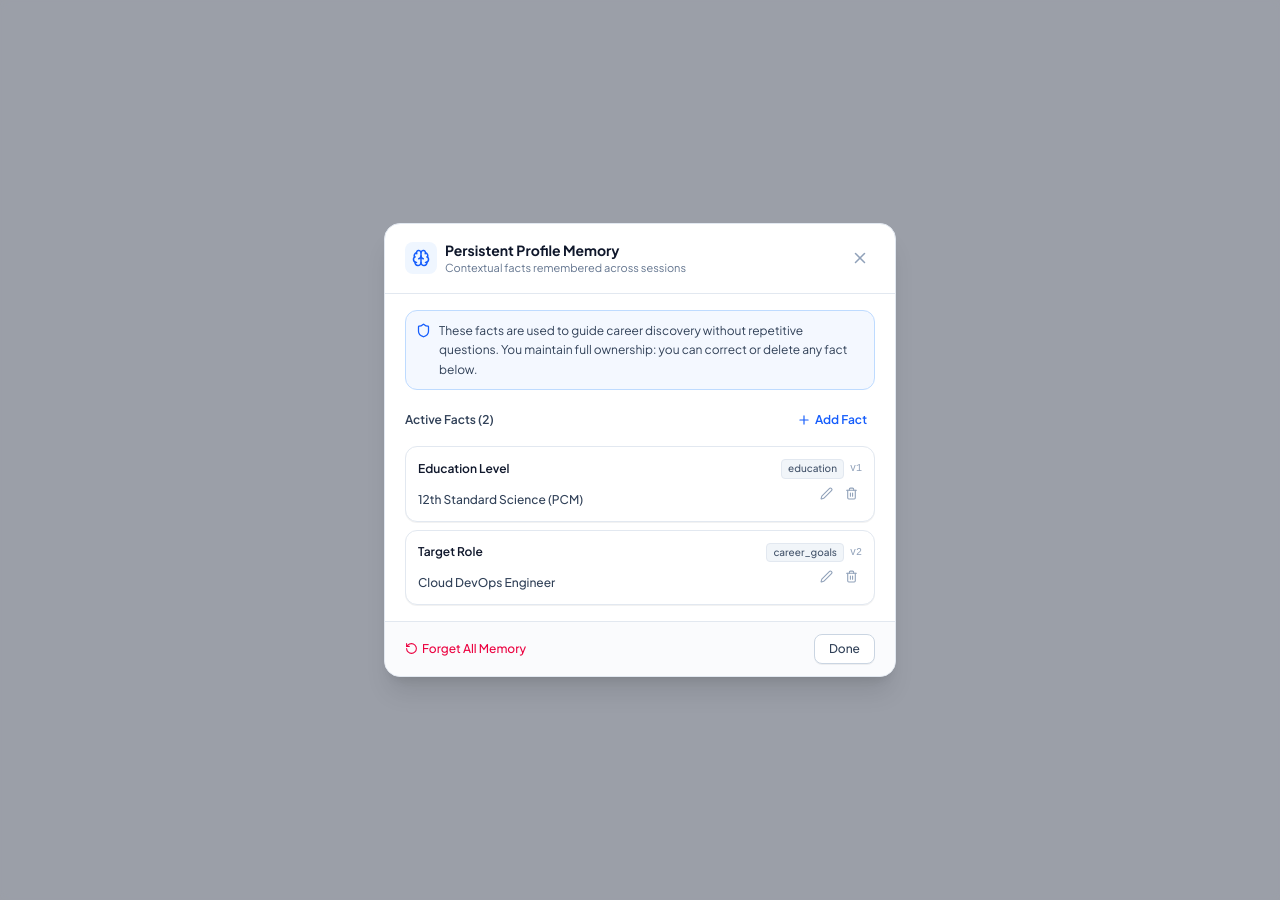
it: MemoryModal Component › supports forget all memories with confirmation
Check: the text "12th Standard Science (PCM)" is shown, box [418, 490, 583, 508]
Click "Forget All Memory"
Click the button "Forget All Memory" at (466, 649), box [405, 641, 526, 657]
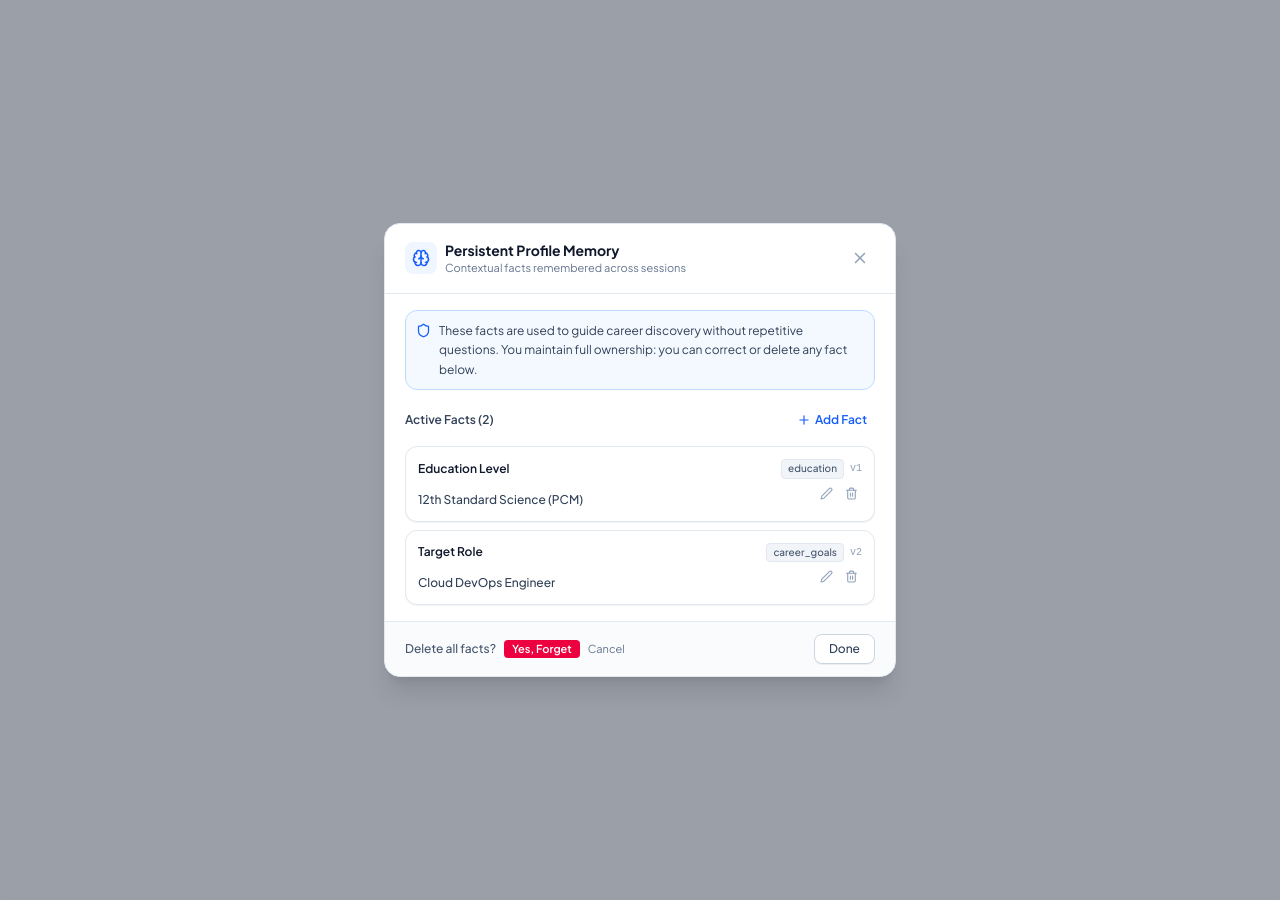
Check: the text "Delete all facts?" is shown, box [405, 641, 496, 657]
Confirm action
Click the button "Yes, Forget" at (542, 649), box [504, 640, 580, 658]
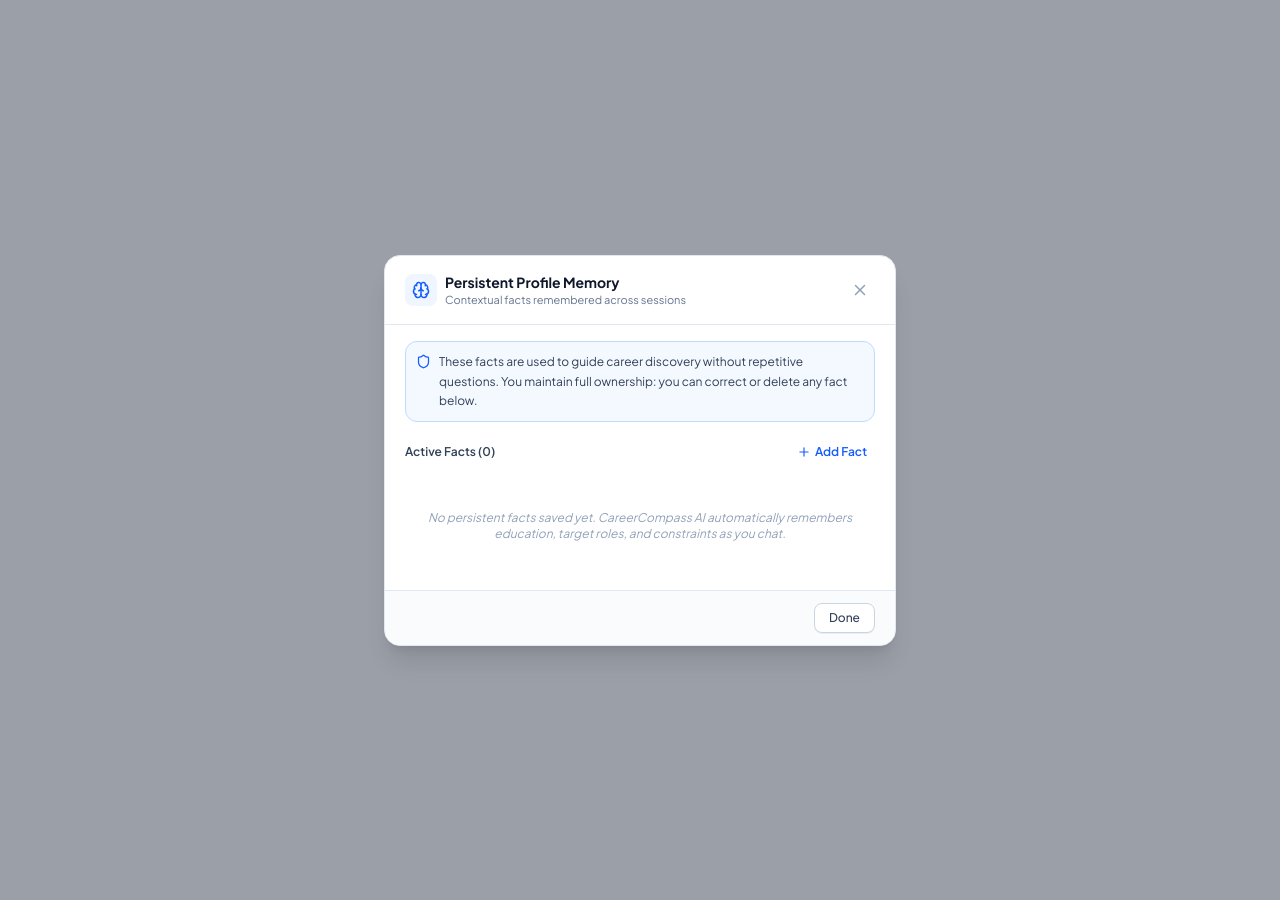
Check: the text "No persistent facts saved yet" is shown, box [428, 510, 852, 540]
